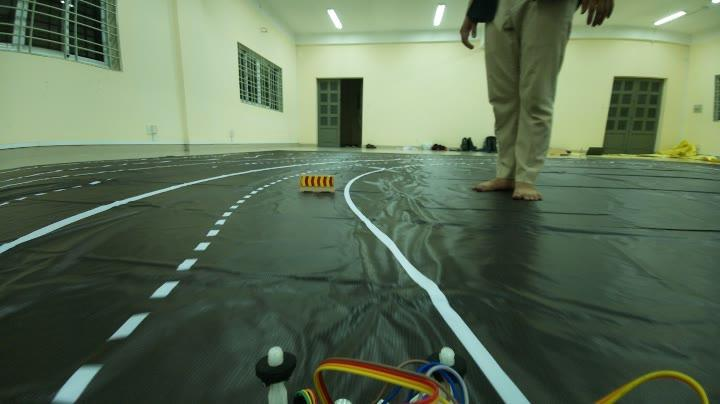roadblock: (299, 166, 346, 202)
